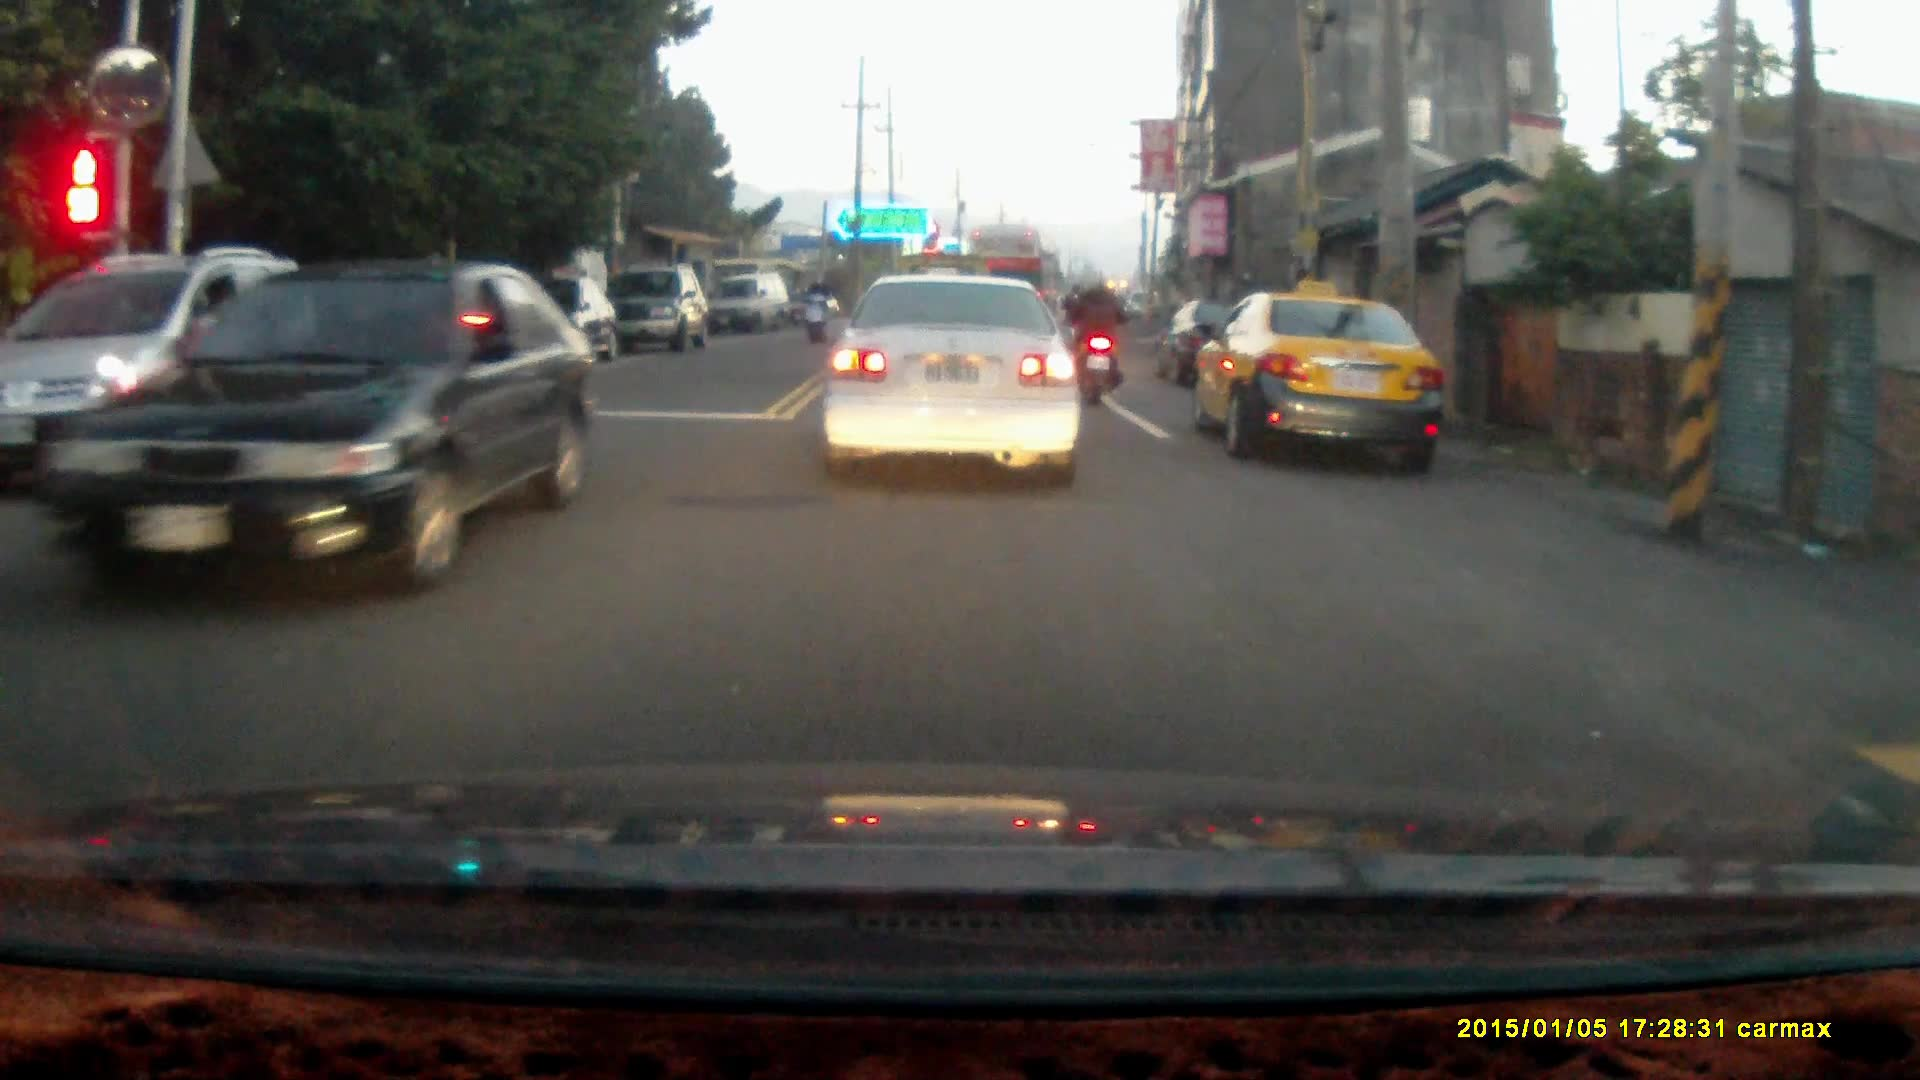rider: (1065, 262, 1127, 403), (796, 268, 831, 342)
vehicle: (57, 263, 565, 611), (819, 275, 1091, 493), (1200, 293, 1448, 468), (611, 260, 708, 354), (715, 275, 794, 332)
